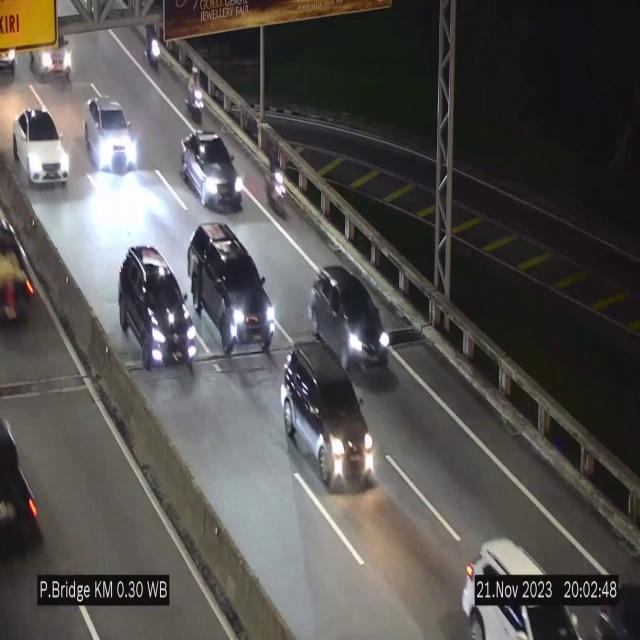Car: (280, 332, 374, 489), (459, 528, 581, 640), (189, 223, 276, 356), (118, 250, 200, 373), (315, 268, 391, 380), (180, 126, 242, 221), (15, 108, 69, 185), (85, 97, 140, 171), (26, 18, 80, 84)
Motorcycle: (264, 145, 289, 225), (186, 67, 204, 123), (144, 23, 162, 76)
